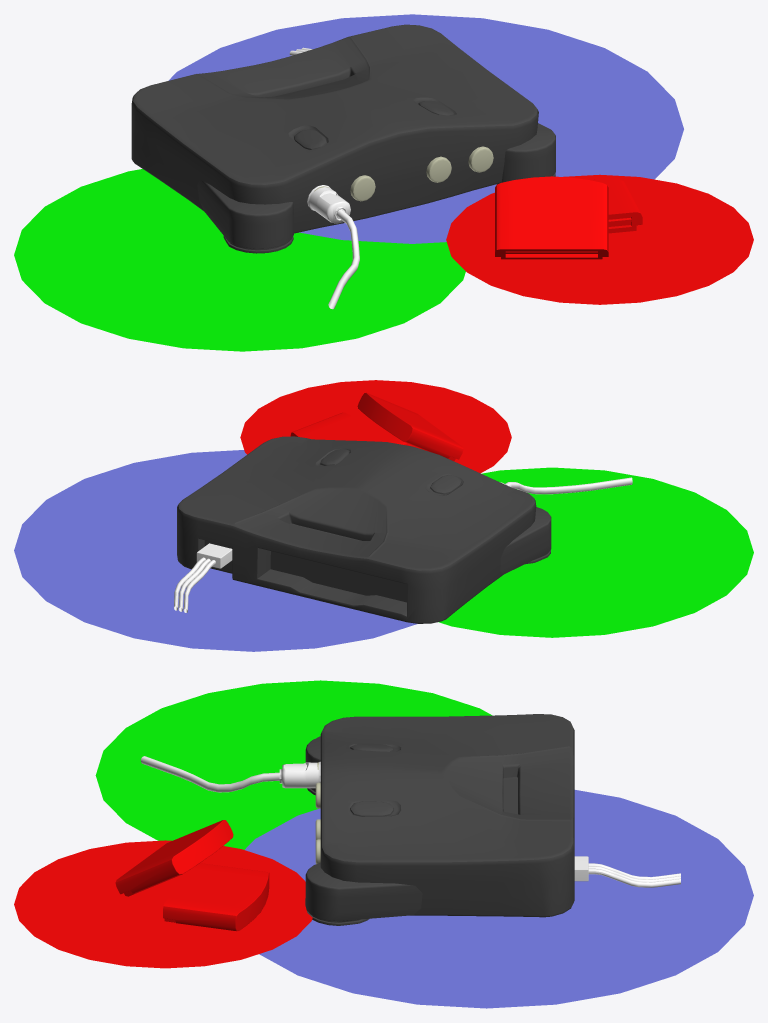
File: n64 scena.fbx
3 renders of one model, top to bottom at view 1: azimuth 30°, elevation 25°; view 2: azimuth 150°, elevation 25°; view 3: azimuth 270°, elevation 25°, orthographic. The views are drawn at different scales.
Parts seen in each view (by area): view 1: Scocca, pDisc2, pDisc1, pDisc3, Cartuccia2, Piedi, cavopad, Attachi_joypad, Cartuccia1, Pulsanti; view 2: Scocca, pDisc1, pDisc2, pDisc3, Cartuccia2, Piedi, Cartuccia1, cavopad, Cavi, Pulsanti, AttaccoDietro; view 3: pDisc1, Scocca, pDisc2, pDisc3, Cartuccia1, Piedi, Cartuccia2, cavopad, Cavi, Pulsanti.
Boxes of the visible parts, <box> form: Scocca: <box>131,24,538,233</box>; pDisc2: <box>14,169,465,351</box>; pDisc1: <box>168,14,683,243</box>; pDisc3: <box>446,174,753,304</box>; Cartuccia2: <box>495,176,608,259</box>; Piedi: <box>197,123,555,253</box>; cavopad: <box>307,185,359,309</box>; Attachi_joypad: <box>314,146,493,201</box>; Cartuccia1: <box>590,179,642,233</box>; Pulsanti: <box>294,100,454,149</box>; Scocca: <box>177,436,536,623</box>; pDisc1: <box>14,450,417,651</box>; pDisc2: <box>438,467,753,637</box>; pDisc3: <box>240,380,511,473</box>; Cartuccia2: <box>357,392,463,460</box>; Piedi: <box>500,507,551,574</box>; Cartuccia1: <box>290,412,408,445</box>; cavopad: <box>500,477,632,494</box>; Cavi: <box>174,557,215,612</box>; Pulsanti: <box>320,449,461,494</box>; AttaccoDietro: <box>196,543,232,568</box>; pDisc1: <box>245,790,753,1008</box>; Scocca: <box>320,714,574,917</box>; pDisc2: <box>95,680,492,849</box>; pDisc3: <box>14,840,312,968</box>; Cartuccia1: <box>163,863,269,931</box>; Piedi: <box>305,736,422,925</box>; Cartuccia2: <box>115,820,233,896</box>; cavopad: <box>140,756,320,792</box>; Cavi: <box>588,863,680,887</box>; Pulsanti: <box>350,743,393,816</box>.
Size of the model in its own units: 58.41 by 6.8 by 55.34.
